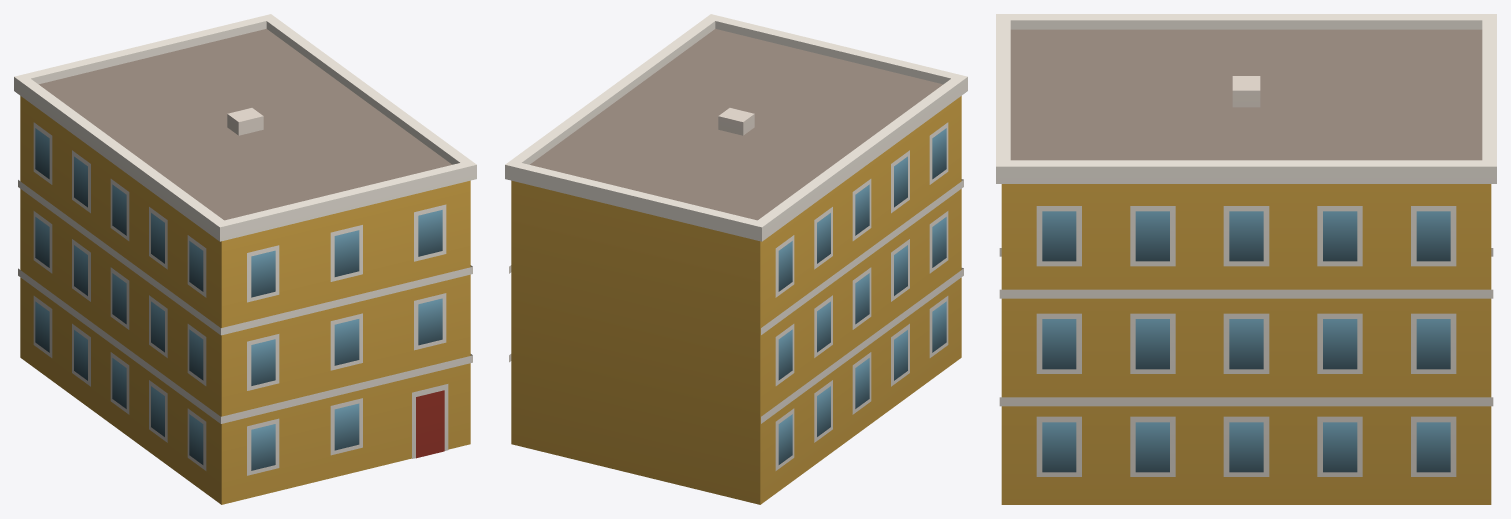
File: boylston_s15_far.glb
3 renders of one model, left to right at view 1: azimuth 30°, elevation 25°; view 2: azimuth 150°, elevation 25°; view 3: azimuth 270°, elevation 25°, orthographic. The views are drawn at different scales.
Visible parts, largest first — view 1: boylston_s15_far; view 2: boylston_s15_far; view 3: boylston_s15_far.
Boxes of the visible parts, x1,y1,x2,y2 form: boylston_s15_far: (14,14,476,504); boylston_s15_far: (505,14,967,504); boylston_s15_far: (996,14,1496,504).
Size of the model in its own units: 10.32 by 10.97 by 14.32.
Materials: 1 (1 with a texture image).
